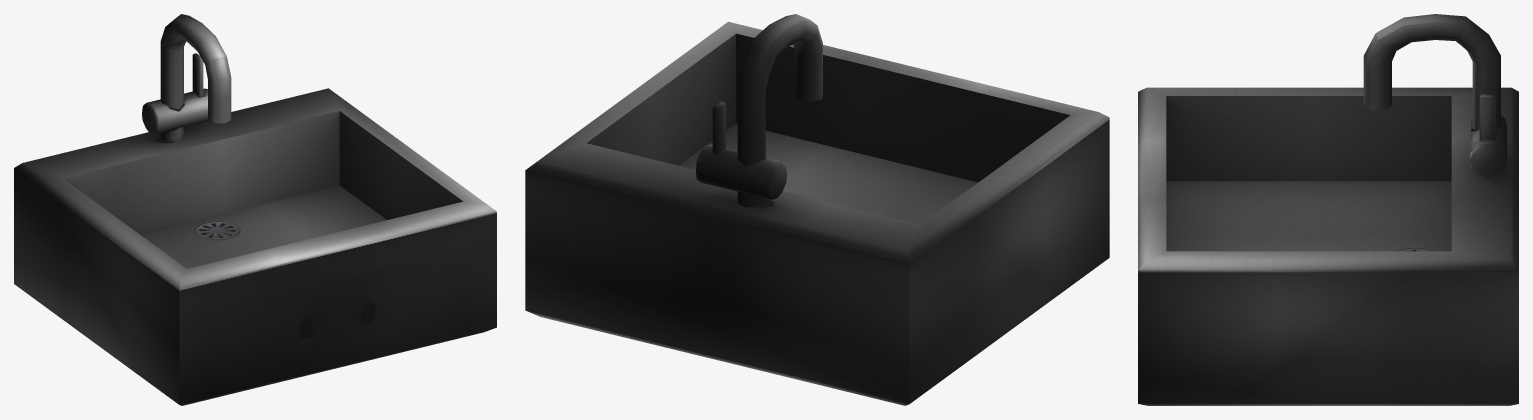
File: sink.obj
3 views of the same model, side by side, from view 1: azimuth 30°, elevation 25°; view 2: azimuth 150°, elevation 25°; view 3: azimuth 270°, elevation 25° (orthographic). The views are drawn at different scales.
Parts seen in each view (by area): view 1: Group; view 2: Group; view 3: Group.
Boxes of the visible parts, x1,y1,x2,y2 form: Group: (14, 14, 496, 405); Group: (525, 14, 1109, 405); Group: (1138, 14, 1518, 405).
Size of the model in its own units: 70.85 by 55.34 by 63.9.
1 material, 1 textured.
